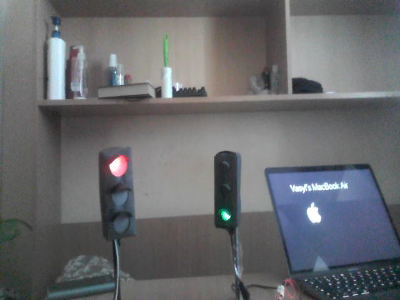trafficlight_green: (214, 153, 237, 228)
trafficlight_red: (103, 149, 134, 235)
